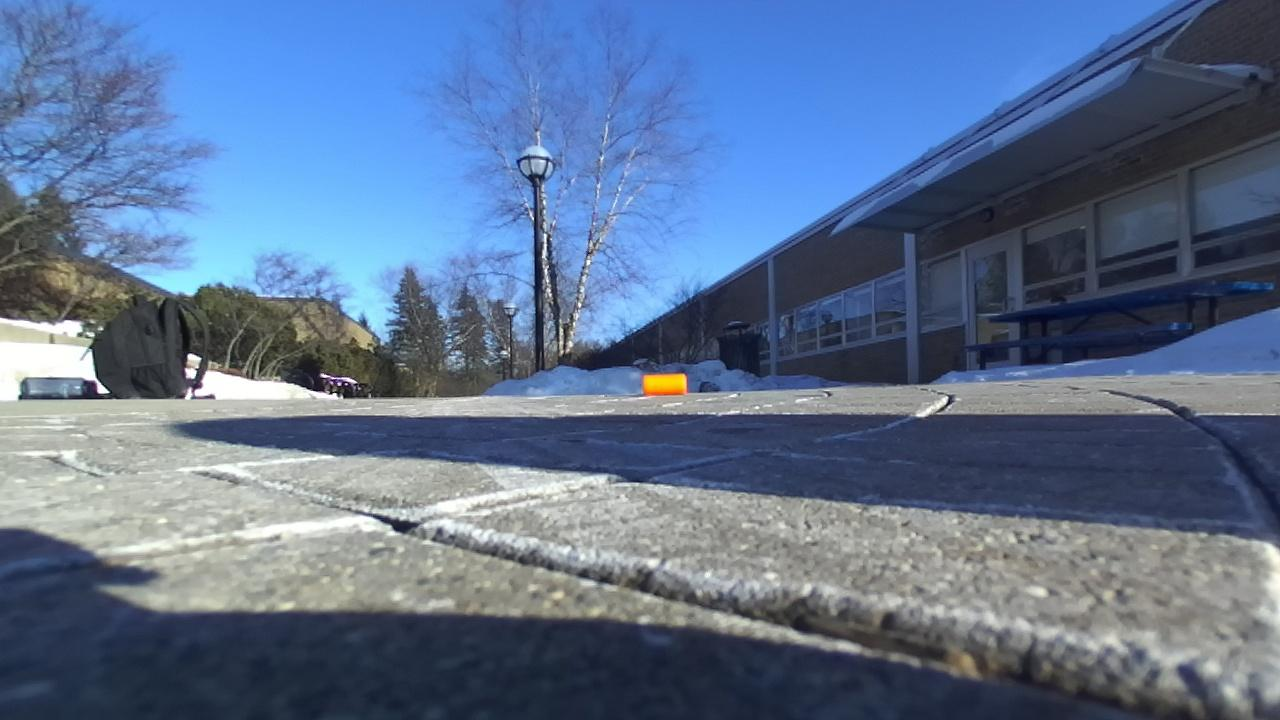bottle: (20, 377, 104, 399)
mallet: (642, 374, 687, 395)
